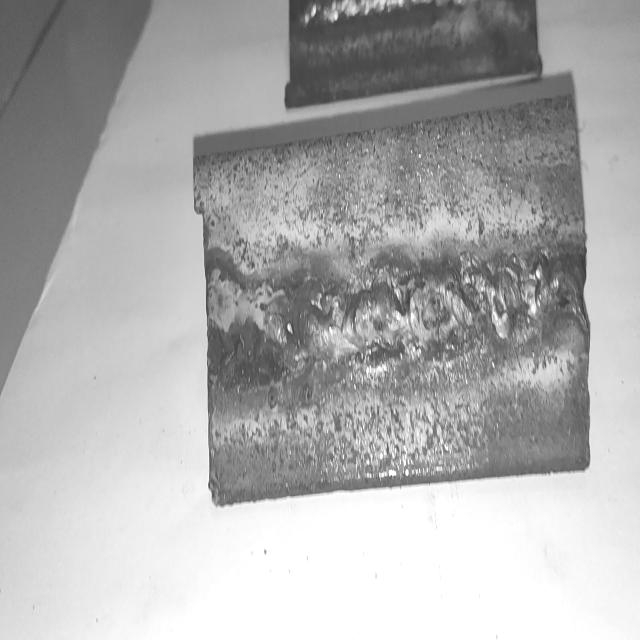Bad Weld: (296, 241, 584, 368)
Defect: (314, 250, 502, 368), (520, 223, 585, 353)
